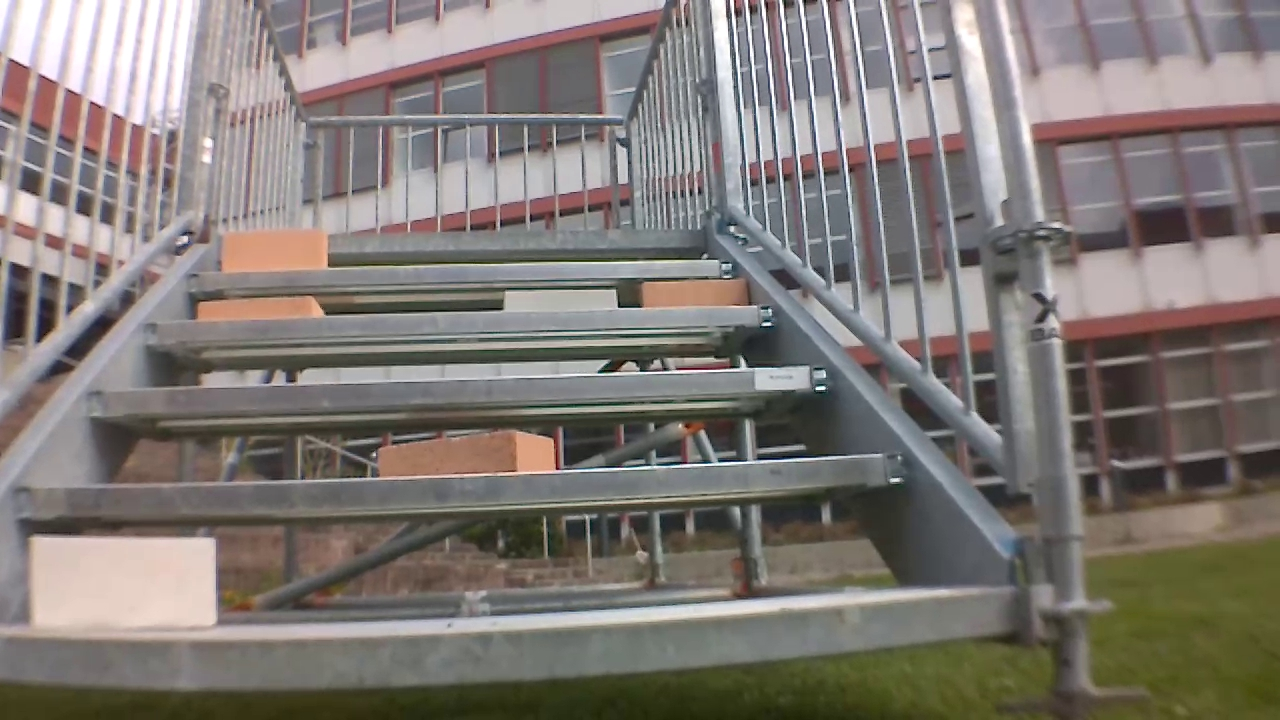brick: (29, 534, 215, 625), (378, 429, 553, 474), (222, 230, 325, 269), (195, 295, 319, 319), (643, 281, 747, 306), (504, 288, 616, 311)
edge: (1, 591, 1013, 683), (14, 454, 906, 516), (84, 366, 829, 412), (145, 305, 775, 341), (187, 260, 737, 287), (214, 229, 701, 249)
stairs: (8, 3, 1113, 715)
steps: (7, 224, 1016, 697)
